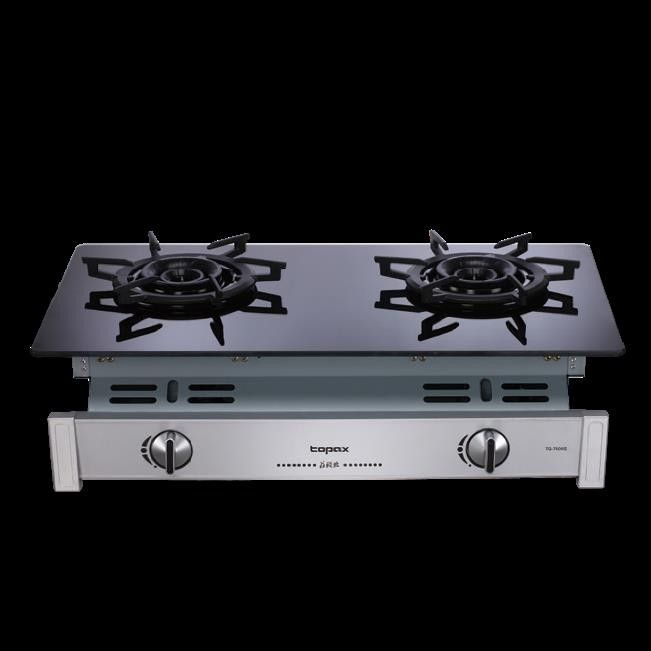gasoven: (17, 230, 625, 495)
